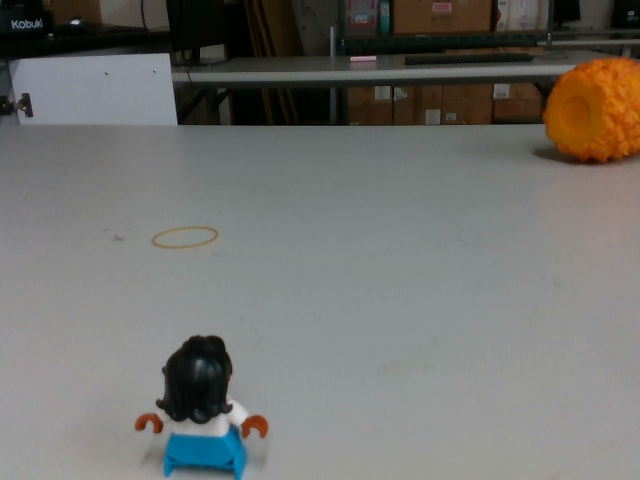people: (133, 334, 273, 480)
